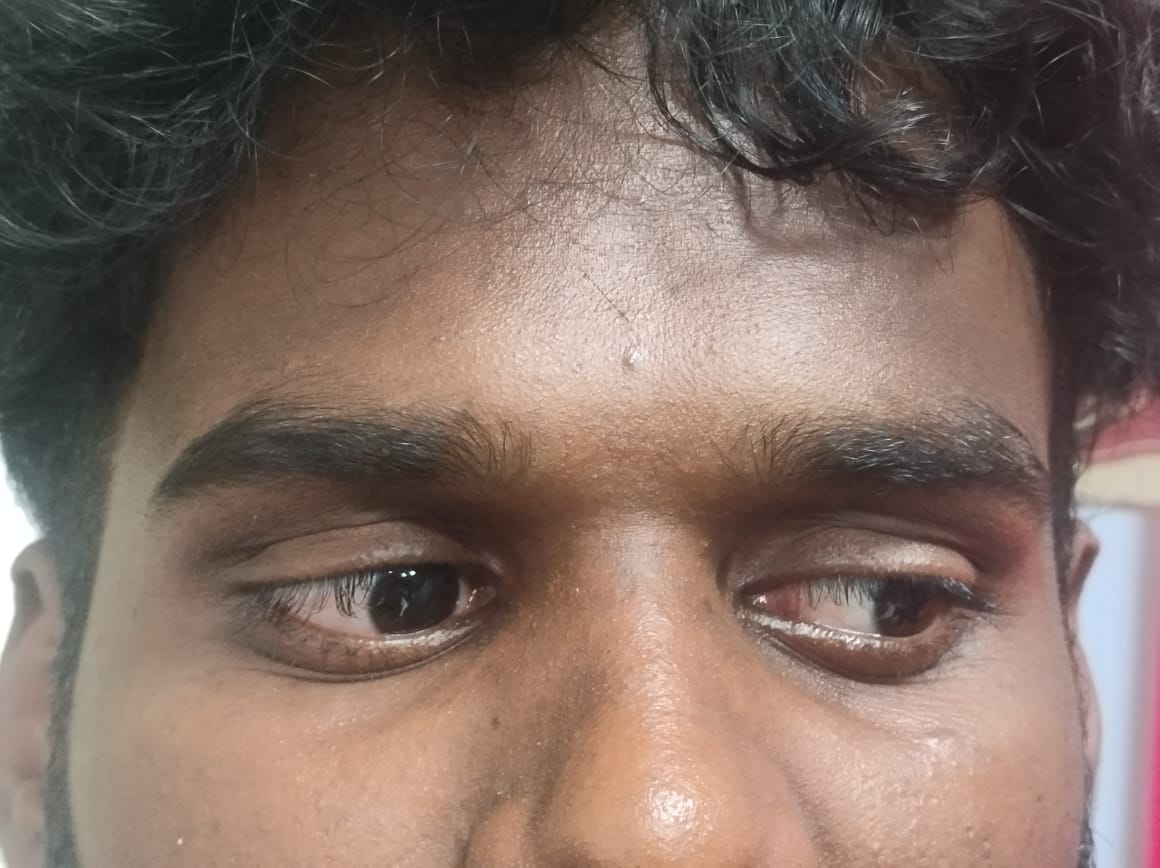EYE LEFT: (72, 393, 600, 743), (653, 397, 1120, 755)
